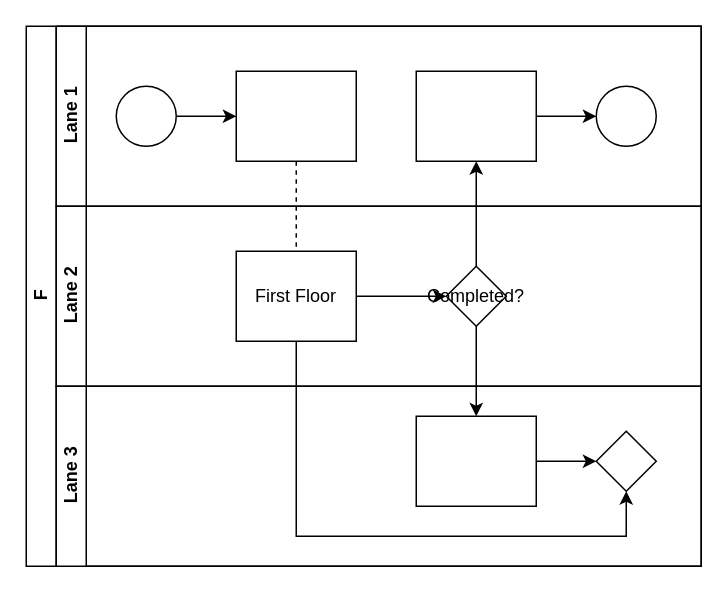
The diagram is 728 pixels wide and 593 high, and some of its shapes have lost their labels. The centre of each missing label's shape, as x and y in pixels:
Build: the point at 145,115
Foundation: the point at 295,115
Second Floor: the point at 475,460
